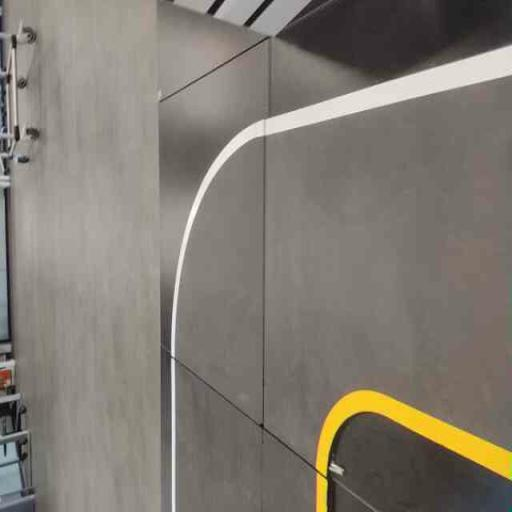left: (164, 66, 413, 476)
